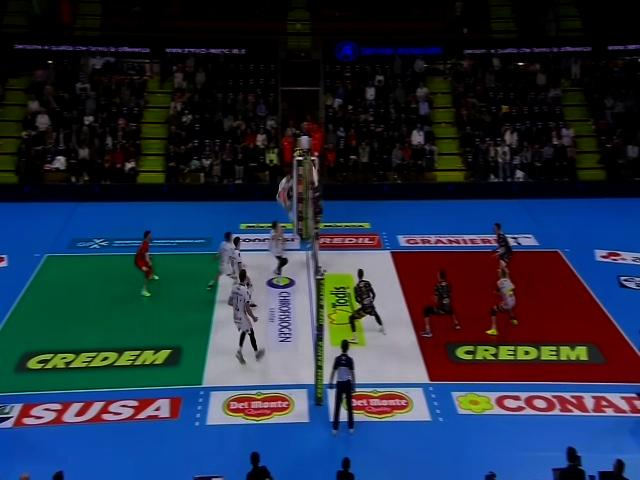volleyball court: (2, 249, 639, 395)
